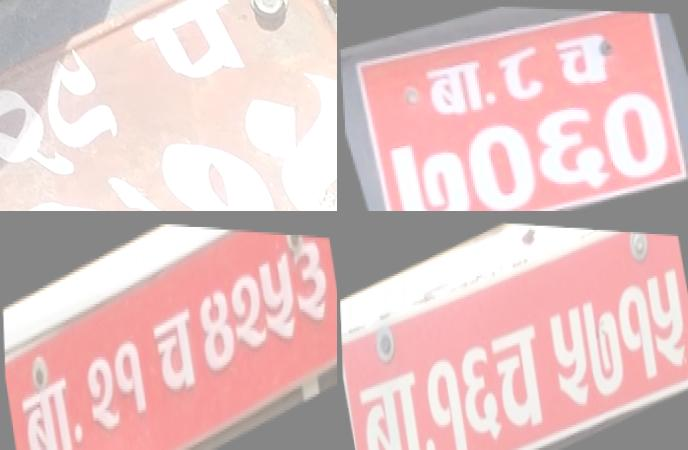0: (453, 107, 545, 211), (589, 74, 677, 182), (0, 166, 178, 211)
1: (610, 258, 661, 391), (418, 339, 471, 450), (107, 324, 152, 441)
2: (0, 70, 77, 199), (224, 254, 270, 365), (80, 339, 123, 450)
3: (286, 230, 334, 336)
4: (227, 46, 337, 211), (192, 276, 240, 384)
5: (542, 290, 595, 416), (642, 243, 688, 382), (254, 234, 303, 354)
6: (522, 91, 616, 202), (452, 326, 506, 450)
7: (92, 108, 298, 211), (379, 127, 476, 211), (577, 273, 629, 404)
8: (489, 39, 553, 106)
9: (26, 36, 130, 156)
ba: (352, 352, 429, 450), (418, 51, 497, 123), (15, 363, 79, 450)
cha: (484, 304, 553, 446), (147, 294, 201, 408), (550, 24, 620, 93)
pa: (114, 0, 262, 102)
